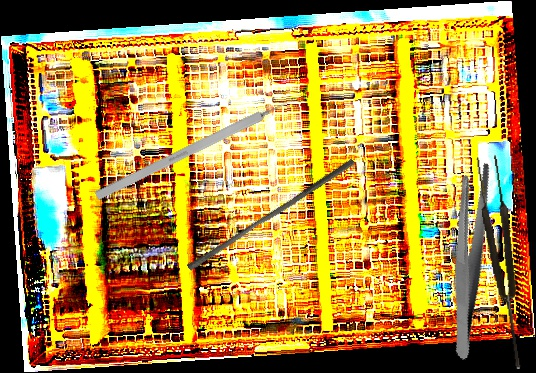Dressing Forceps: (404, 157, 533, 361)
Hook Surgical: (94, 91, 303, 202)
Pusher: (186, 152, 356, 277)
Tissue Forceps: (474, 154, 530, 371)
